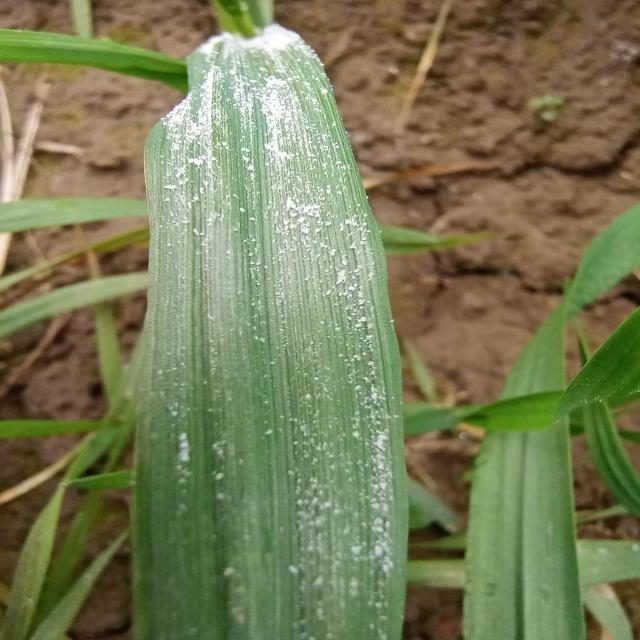Powdery Mildew: (195, 192, 383, 560), (202, 41, 322, 159)
